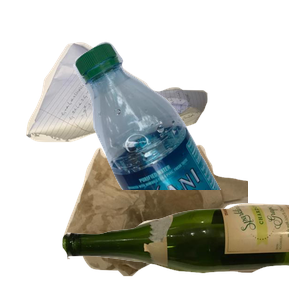glass: (60, 201, 300, 300)
paper: (23, 40, 223, 180)
plastic: (71, 39, 300, 219)
trash: (60, 142, 300, 300)
